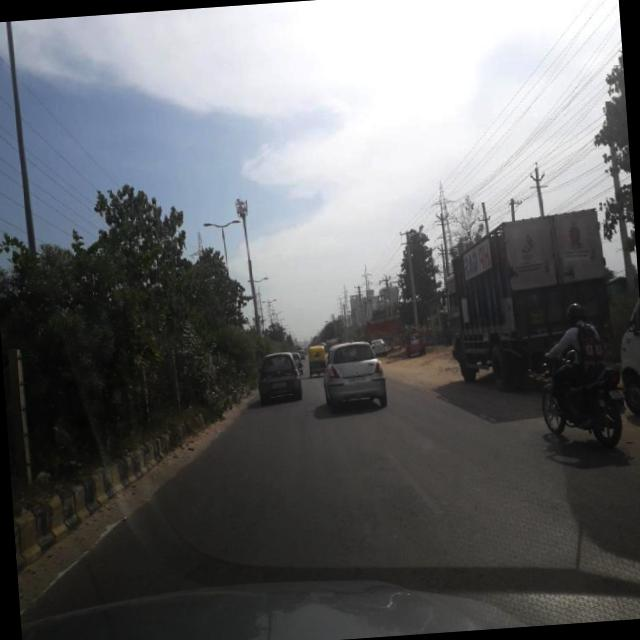crack: (46, 437, 640, 596)
